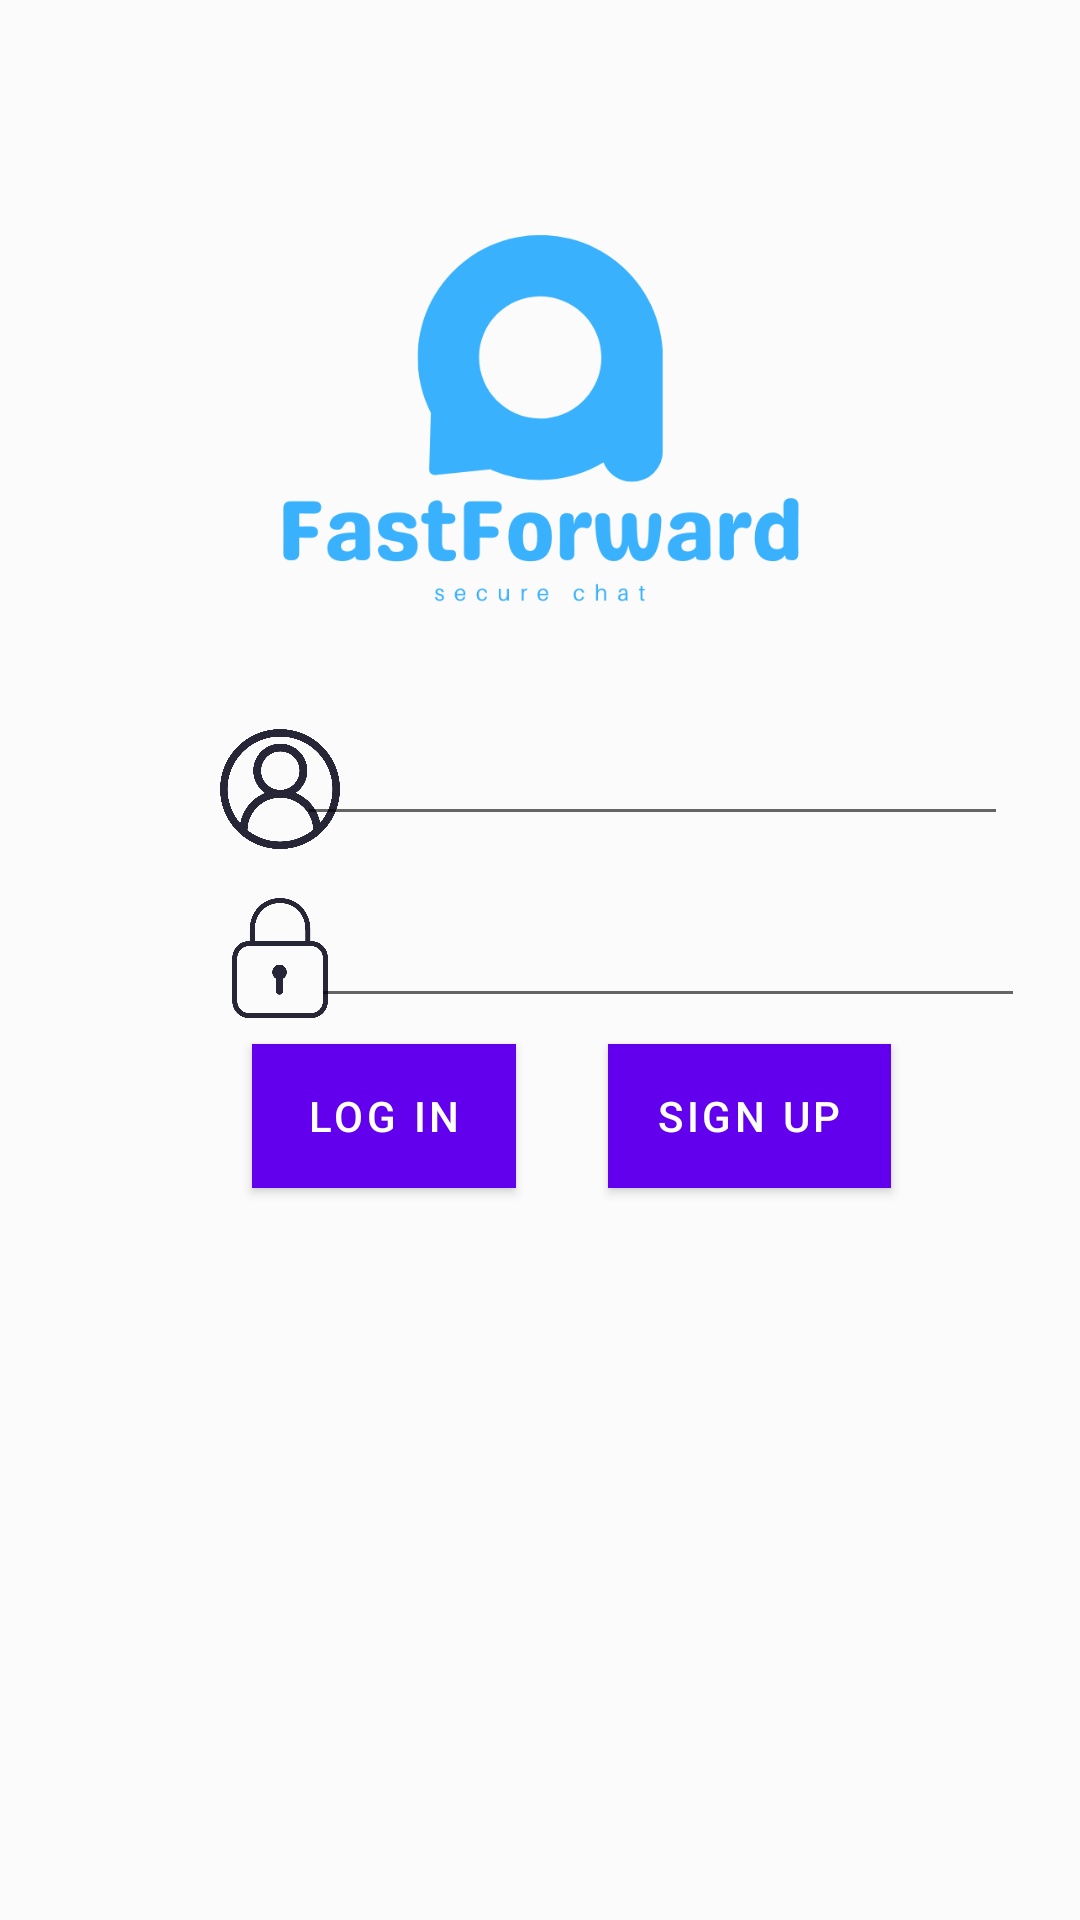

Named icons in this screenshot (1080 x 1920) and their bounding boxes, [left=x1, top=y1, right=x2, bottom=y2]:
lock: [left=232, top=898, right=340, bottom=1018]
user: [left=220, top=729, right=340, bottom=849]
